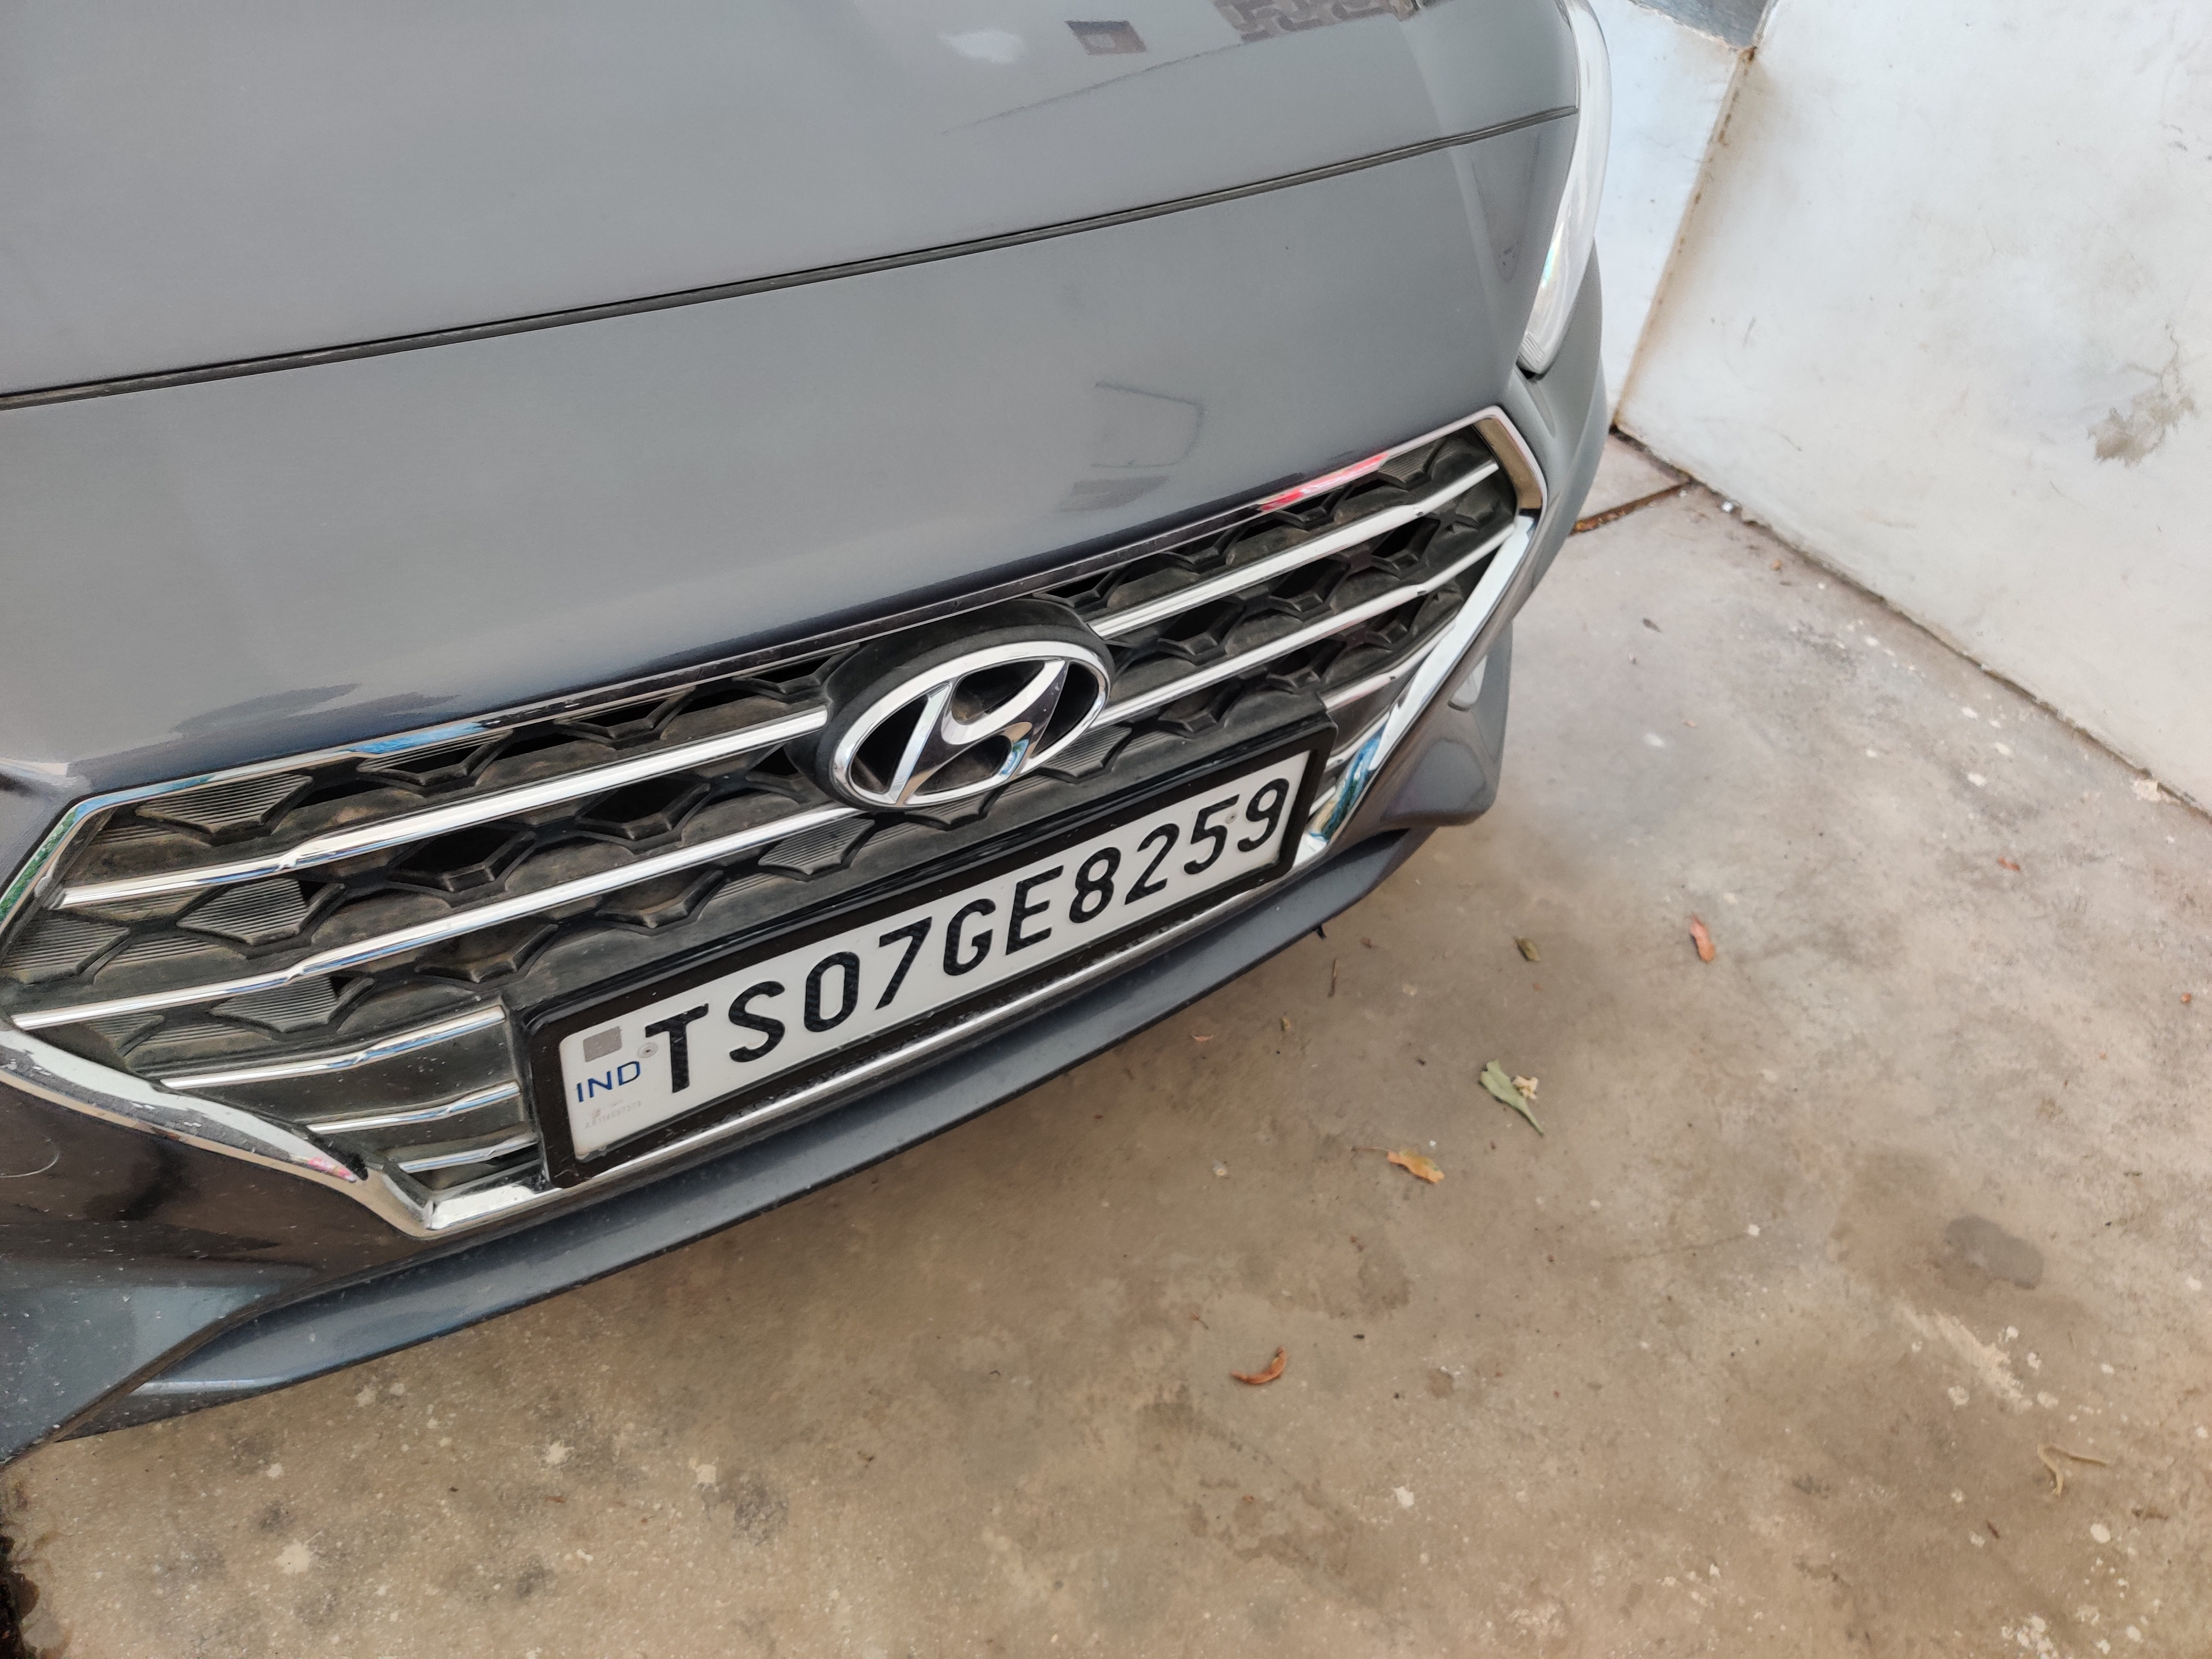plate: (521, 698, 1350, 1209)
